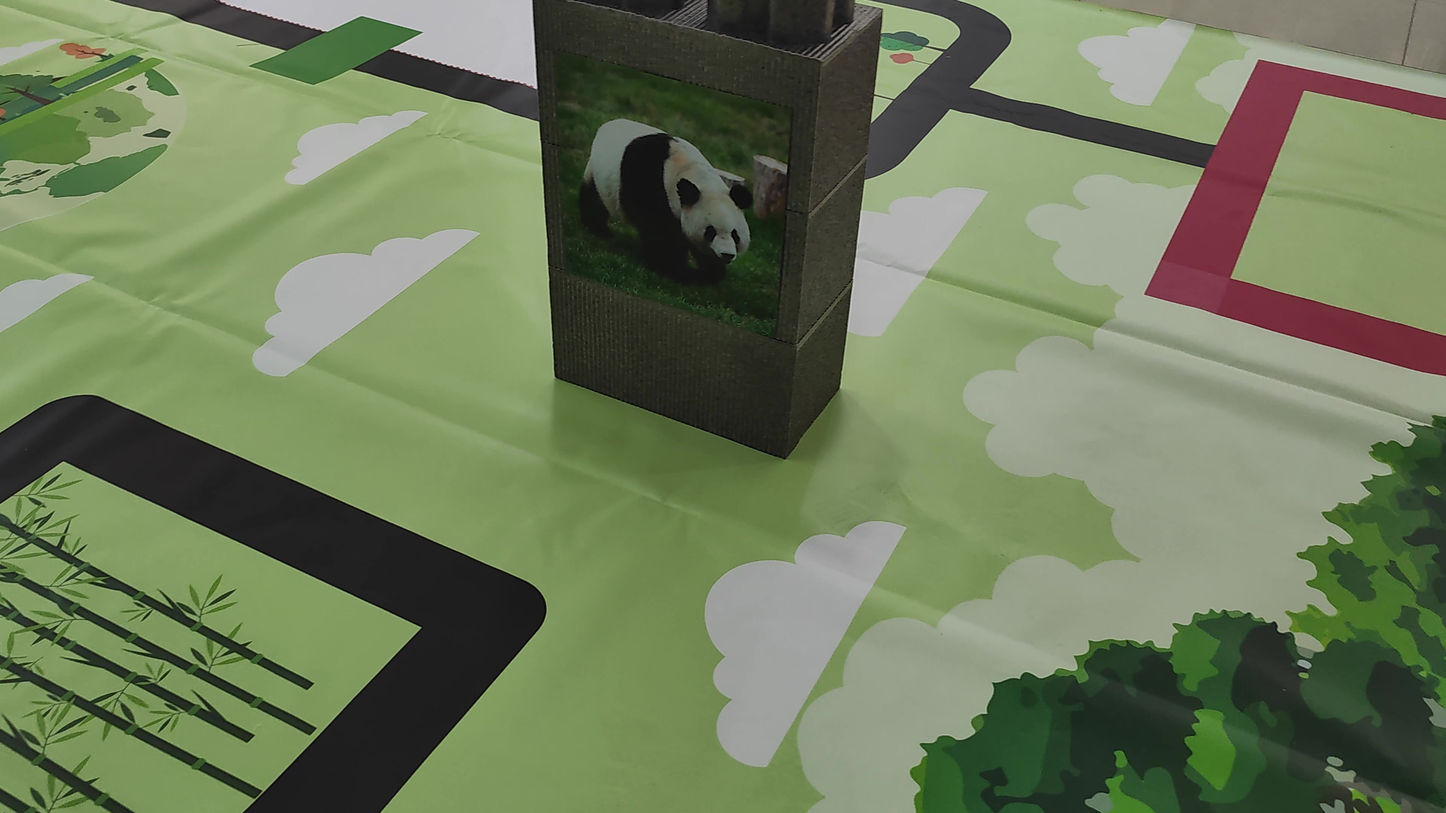panda: (552, 88, 770, 296)
